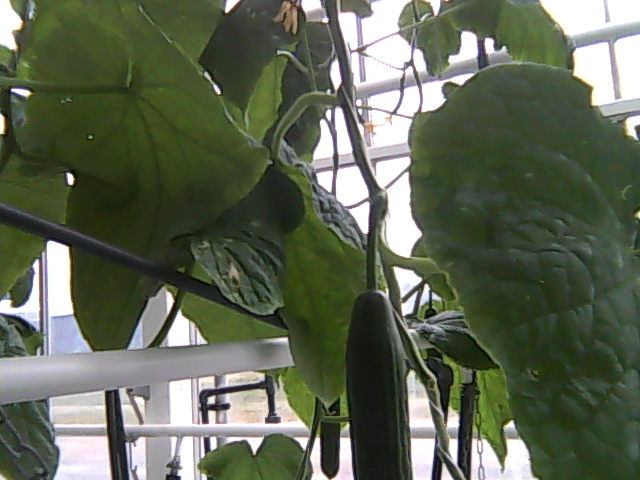concombre: (339, 283, 415, 480)
